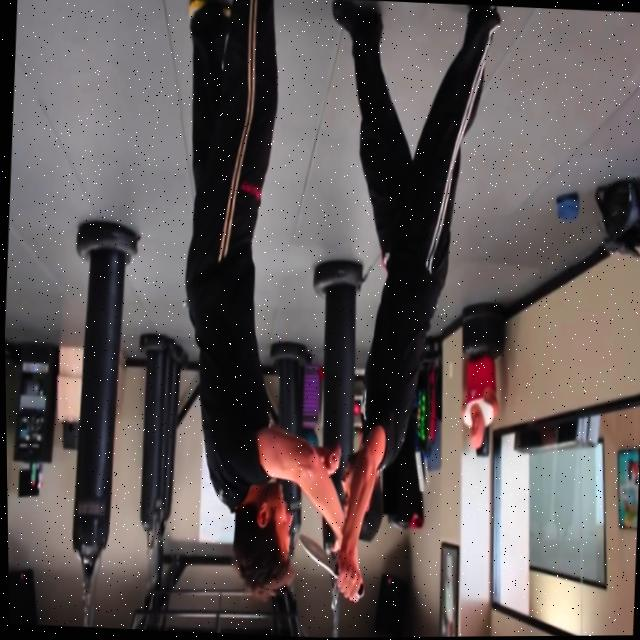knife: (294, 533, 336, 575)
